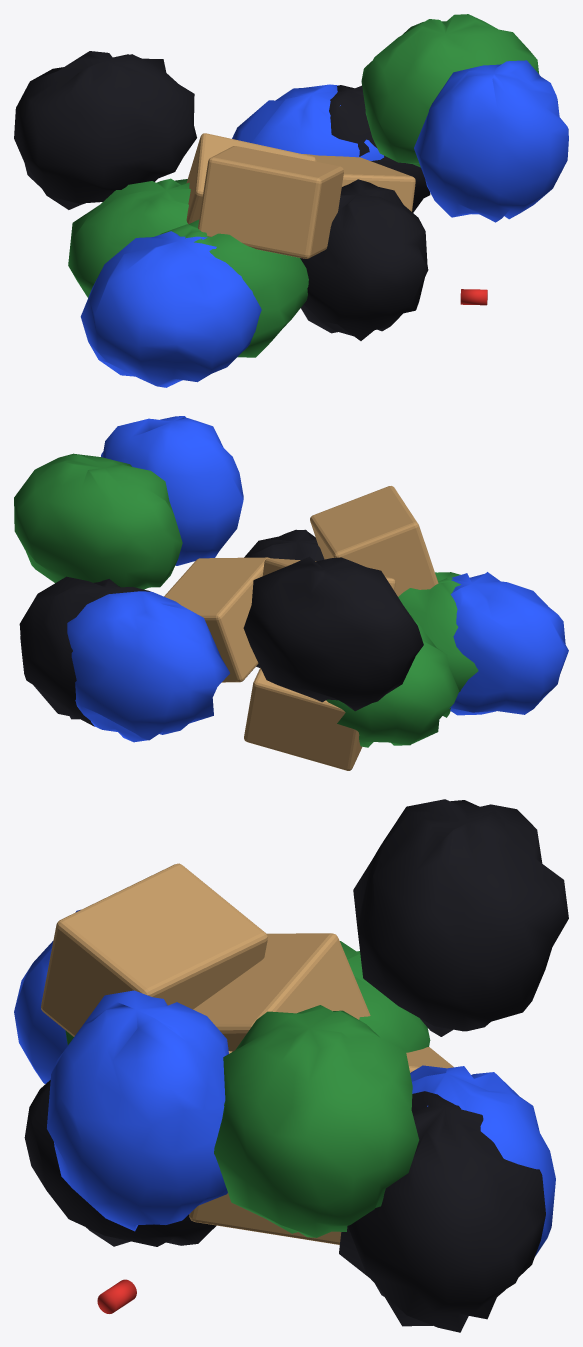
Rendered from Trash_Pile.fbx.
3 renders of one model, top to bottom at view 1: azimuth 30°, elevation 25°; view 2: azimuth 150°, elevation 25°; view 3: azimuth 270°, elevation 25°, orthographic. The views are drawn at different scales.
Parts seen in each view (by area): view 1: Trash_Pile; view 2: Trash_Pile; view 3: Trash_Pile.
Part boxes in pixels (x1=…): Trash_Pile: x1=14, y1=14, x2=568, y2=387; Trash_Pile: x1=14, y1=416, x2=568, y2=770; Trash_Pile: x1=14, y1=799, x2=568, y2=1332.
Size of the model in its own units: 2.42 by 1.09 by 1.61.
